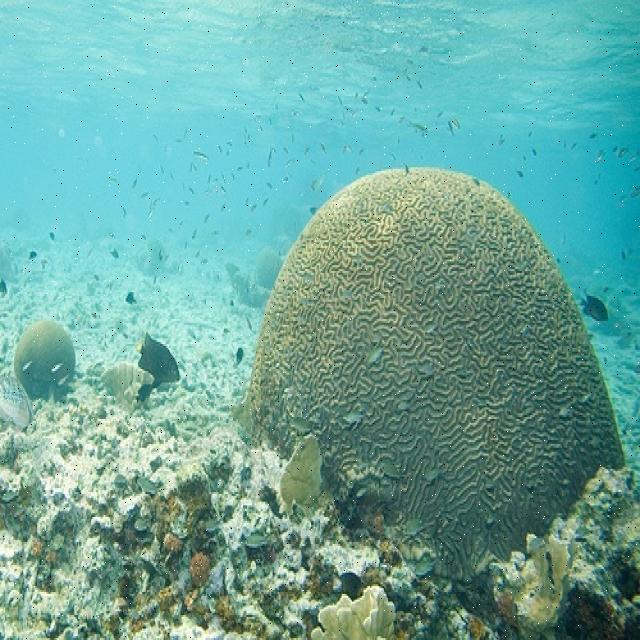fish: (136, 335, 180, 404), (582, 295, 609, 320)
reefs: (239, 165, 628, 578), (14, 320, 75, 403), (309, 586, 396, 638)
